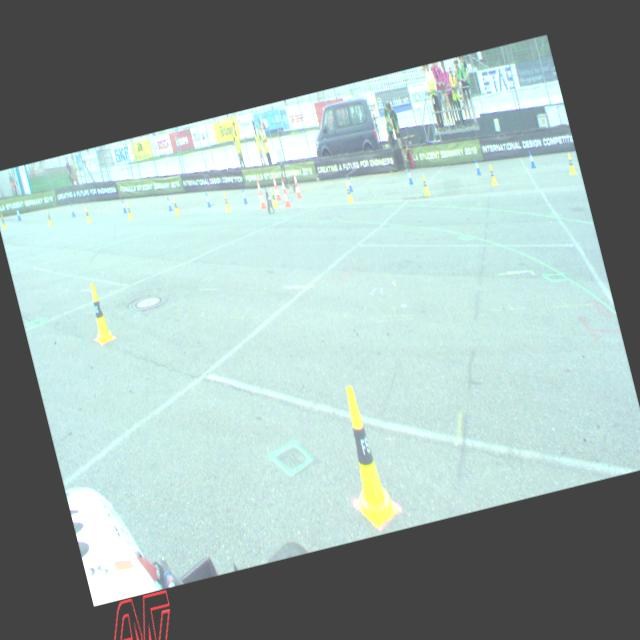blue_cone: (526, 150, 536, 168), (473, 158, 481, 175), (405, 168, 413, 184), (240, 188, 247, 204), (346, 174, 352, 192), (165, 196, 172, 210), (204, 192, 211, 206), (120, 198, 126, 214), (69, 203, 75, 216), (14, 207, 20, 220)
large_orange_cone: (278, 176, 290, 207), (254, 178, 266, 208), (290, 172, 302, 198), (270, 174, 282, 200)
yellow_cone: (332, 384, 396, 525), (84, 281, 113, 344), (565, 152, 576, 174), (487, 163, 497, 184), (420, 173, 429, 194), (269, 188, 278, 208), (344, 182, 353, 202), (222, 192, 230, 210), (172, 197, 180, 214), (45, 210, 52, 226), (126, 202, 132, 219), (0, 213, 6, 229), (84, 206, 90, 222)
